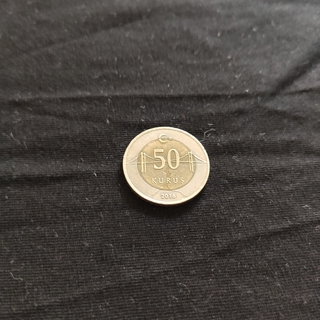50KURUS: (121, 124, 211, 207)
